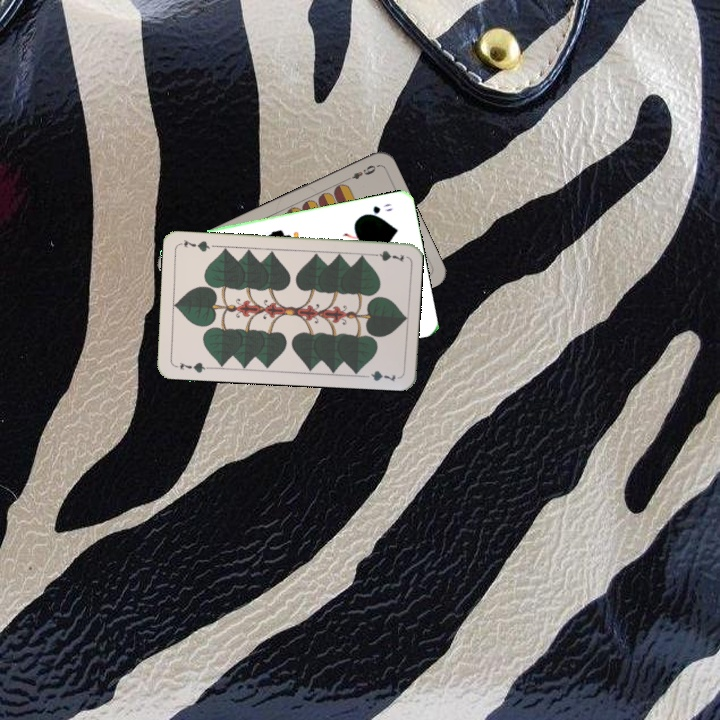E9: (341, 161, 378, 184)
G7: (366, 246, 406, 265), (171, 358, 212, 375)
GO: (359, 199, 396, 219)
